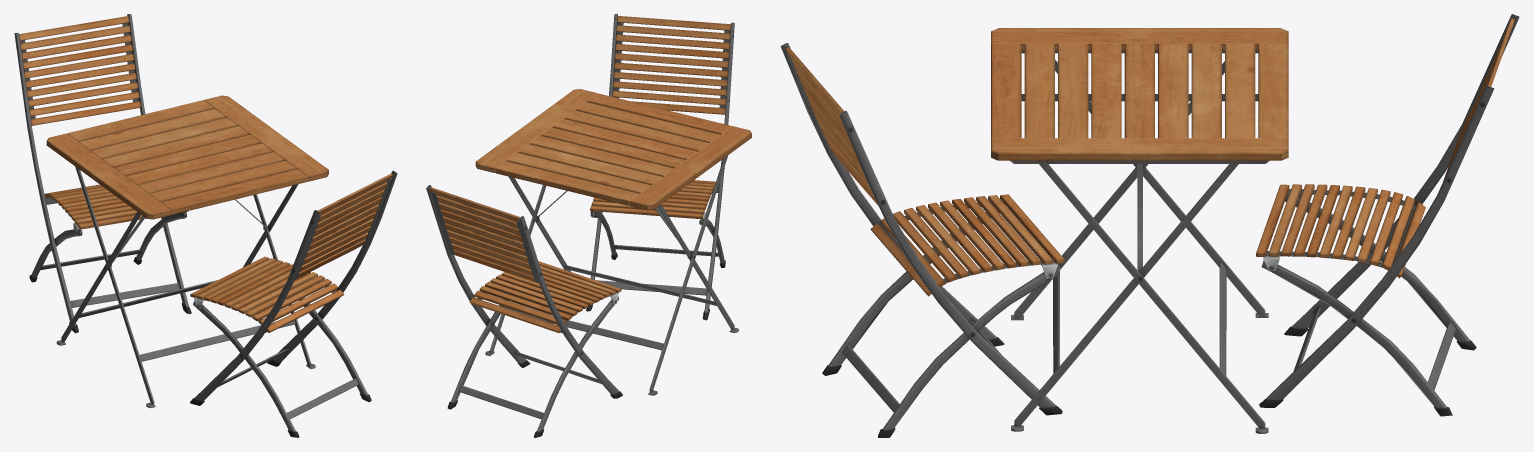
The model's file is outdoor_table_chair_set_01_lod1.glb.
3 renders of one model, left to right at view 1: azimuth 30°, elevation 25°; view 2: azimuth 150°, elevation 25°; view 3: azimuth 270°, elevation 25°, orthographic. The views are drawn at different scales.
Visible parts, largest first — view 1: outdoor_table_chair_set_01_table, outdoor_table_chair_set_01_chair_01, outdoor_table_chair_set_01_chair_02; view 2: outdoor_table_chair_set_01_table, outdoor_table_chair_set_01_chair_02, outdoor_table_chair_set_01_chair_01; view 3: outdoor_table_chair_set_01_table, outdoor_table_chair_set_01_chair_01, outdoor_table_chair_set_01_chair_02.
Boxes of the visible parts, <box> form: outdoor_table_chair_set_01_table: <box>46,95,328,407</box>; outdoor_table_chair_set_01_chair_01: <box>190,170,397,437</box>; outdoor_table_chair_set_01_chair_02: <box>14,14,191,333</box>; outdoor_table_chair_set_01_table: <box>475,89,751,395</box>; outdoor_table_chair_set_01_chair_02: <box>426,185,622,437</box>; outdoor_table_chair_set_01_chair_01: <box>586,14,734,320</box>; outdoor_table_chair_set_01_table: <box>991,28,1288,433</box>; outdoor_table_chair_set_01_chair_01: <box>780,43,1064,437</box>; outdoor_table_chair_set_01_chair_02: <box>1256,14,1519,416</box>.
Size of the model in its own units: 0.7417 by 0.8579 by 1.72.
2 materials, 2 textured.
